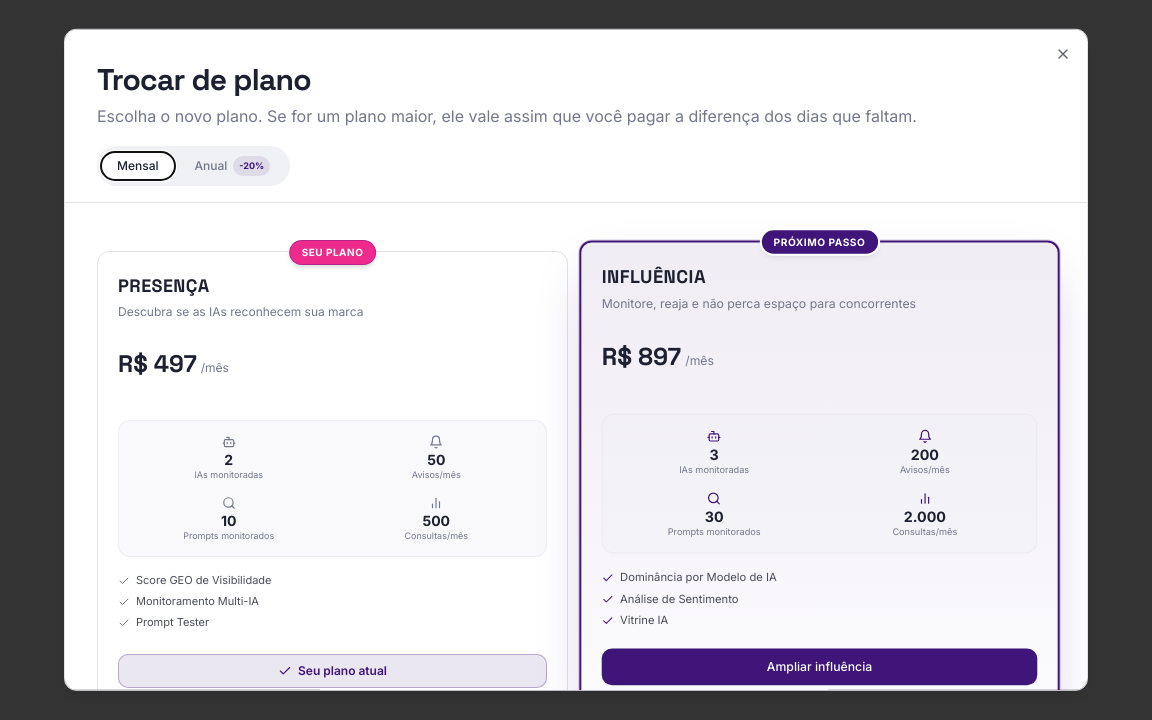
Scenario: plano muda para outro que não o pedido: diálogo original fica
Later steps or results of the test are not shown.
Click the button "Ampliar influência". click: (819, 666)
box: [602,648,1037,685]
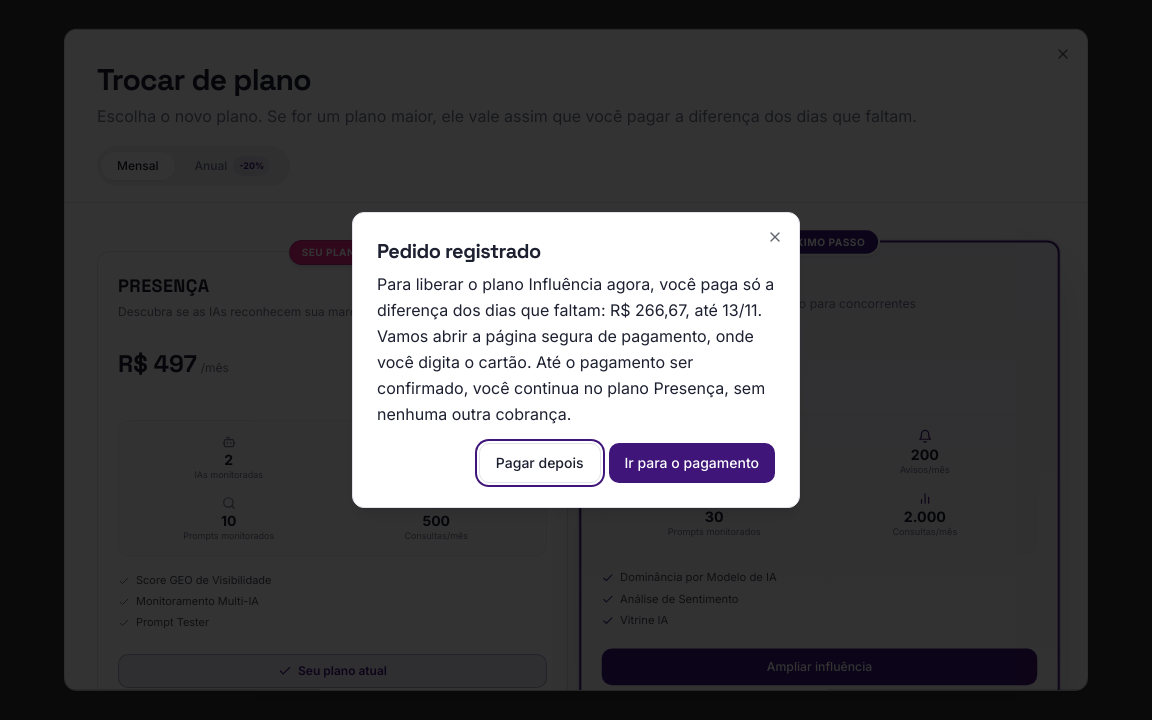
Expected: the heading "Pedido registrado" is shown, [377,238,541,264]
